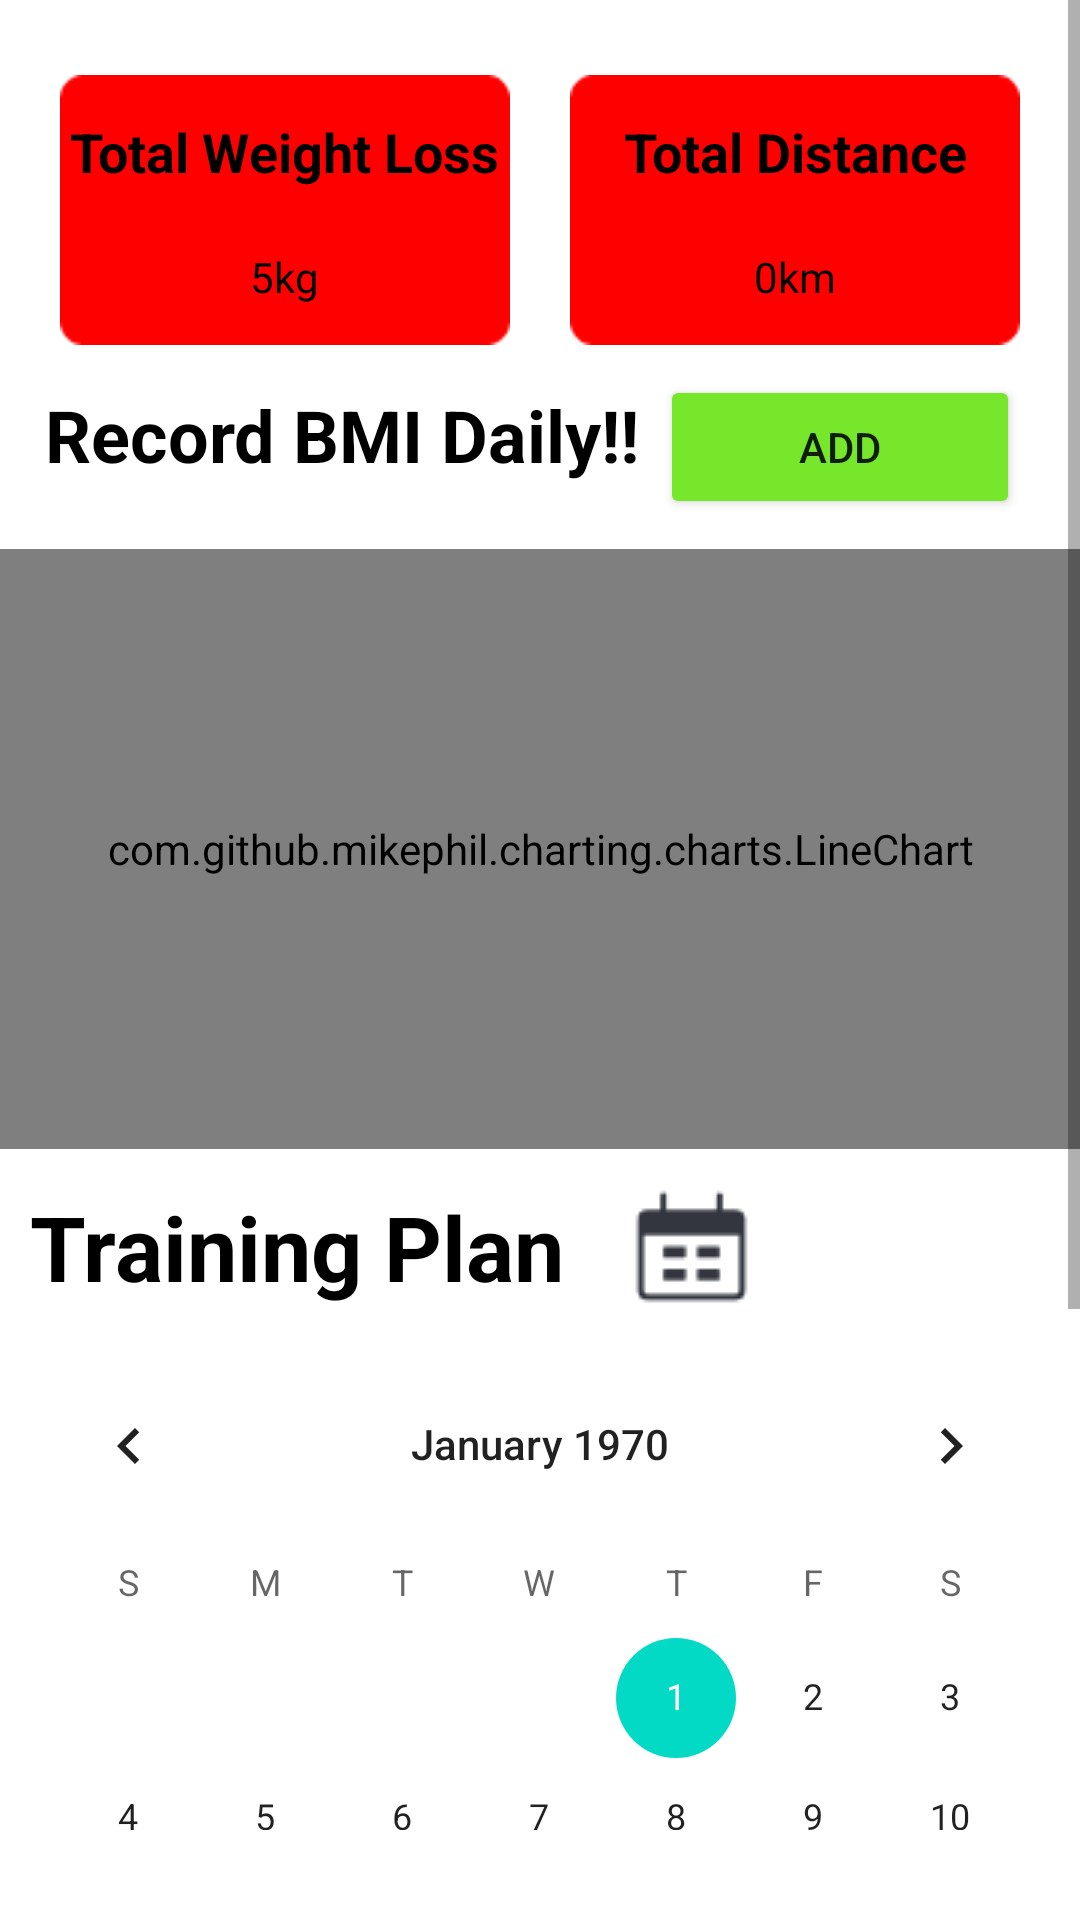

Screen size 1080 × 1920. Icon name, then its center in pixels as (x=x, y=y):
calendar: (x=691, y=1247)
